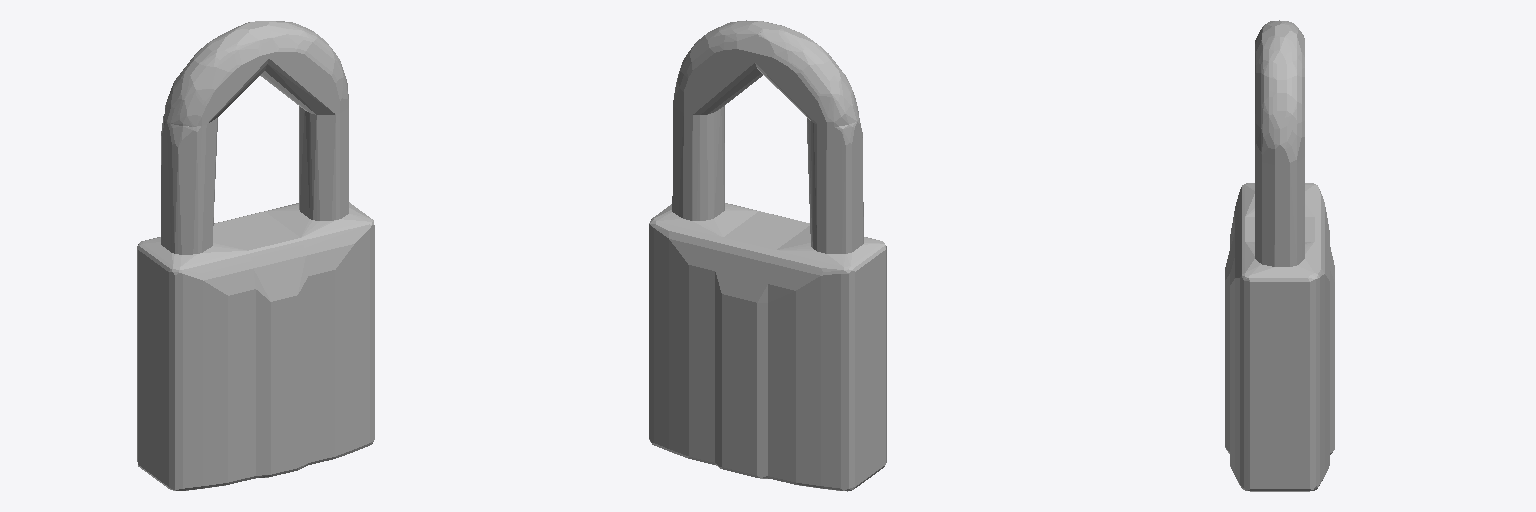
The robot description file, URDF, robot "root":
<robot name="root">
  <link name="body">
    <visual>
      <origin xyz="0 0 0" rpy="0 0 0"/>
      <geometry>
        <mesh filename="coacd_convex_piece_0.obj" scale="1.0000E+00 1.0000E+00 1.0000E+00"/>
      </geometry>
      <material name="">
        <color rgba="7.50E-01 7.50E-01 7.50E-01 1"/>
      </material>
    </visual>
    <collision>
      <origin xyz="0 0 0" rpy="0 0 0"/>
      <geometry>
        <mesh filename="coacd_convex_piece_0.obj" scale="1.0000E+00 1.0000E+00 1.0000E+00"/>
      </geometry>
    </collision>
    <visual>
      <origin xyz="0 0 0" rpy="0 0 0"/>
      <geometry>
        <mesh filename="coacd_convex_piece_1.obj" scale="1.0000E+00 1.0000E+00 1.0000E+00"/>
      </geometry>
      <material name="">
        <color rgba="7.50E-01 7.50E-01 7.50E-01 1"/>
      </material>
    </visual>
    <collision>
      <origin xyz="0 0 0" rpy="0 0 0"/>
      <geometry>
        <mesh filename="coacd_convex_piece_1.obj" scale="1.0000E+00 1.0000E+00 1.0000E+00"/>
      </geometry>
    </collision>
    <visual>
      <origin xyz="0 0 0" rpy="0 0 0"/>
      <geometry>
        <mesh filename="coacd_convex_piece_2.obj" scale="1.0000E+00 1.0000E+00 1.0000E+00"/>
      </geometry>
      <material name="">
        <color rgba="7.50E-01 7.50E-01 7.50E-01 1"/>
      </material>
    </visual>
    <collision>
      <origin xyz="0 0 0" rpy="0 0 0"/>
      <geometry>
        <mesh filename="coacd_convex_piece_2.obj" scale="1.0000E+00 1.0000E+00 1.0000E+00"/>
      </geometry>
    </collision>
    <visual>
      <origin xyz="0 0 0" rpy="0 0 0"/>
      <geometry>
        <mesh filename="coacd_convex_piece_3.obj" scale="1.0000E+00 1.0000E+00 1.0000E+00"/>
      </geometry>
      <material name="">
        <color rgba="7.50E-01 7.50E-01 7.50E-01 1"/>
      </material>
    </visual>
    <collision>
      <origin xyz="0 0 0" rpy="0 0 0"/>
      <geometry>
        <mesh filename="coacd_convex_piece_3.obj" scale="1.0000E+00 1.0000E+00 1.0000E+00"/>
      </geometry>
    </collision>
    <visual>
      <origin xyz="0 0 0" rpy="0 0 0"/>
      <geometry>
        <mesh filename="coacd_convex_piece_4.obj" scale="1.0000E+00 1.0000E+00 1.0000E+00"/>
      </geometry>
      <material name="">
        <color rgba="7.50E-01 7.50E-01 7.50E-01 1"/>
      </material>
    </visual>
    <collision>
      <origin xyz="0 0 0" rpy="0 0 0"/>
      <geometry>
        <mesh filename="coacd_convex_piece_4.obj" scale="1.0000E+00 1.0000E+00 1.0000E+00"/>
      </geometry>
    </collision>
    <visual>
      <origin xyz="0 0 0" rpy="0 0 0"/>
      <geometry>
        <mesh filename="coacd_convex_piece_5.obj" scale="1.0000E+00 1.0000E+00 1.0000E+00"/>
      </geometry>
      <material name="">
        <color rgba="7.50E-01 7.50E-01 7.50E-01 1"/>
      </material>
    </visual>
    <collision>
      <origin xyz="0 0 0" rpy="0 0 0"/>
      <geometry>
        <mesh filename="coacd_convex_piece_5.obj" scale="1.0000E+00 1.0000E+00 1.0000E+00"/>
      </geometry>
    </collision>
    <visual>
      <origin xyz="0 0 0" rpy="0 0 0"/>
      <geometry>
        <mesh filename="coacd_convex_piece_6.obj" scale="1.0000E+00 1.0000E+00 1.0000E+00"/>
      </geometry>
      <material name="">
        <color rgba="7.50E-01 7.50E-01 7.50E-01 1"/>
      </material>
    </visual>
    <collision>
      <origin xyz="0 0 0" rpy="0 0 0"/>
      <geometry>
        <mesh filename="coacd_convex_piece_6.obj" scale="1.0000E+00 1.0000E+00 1.0000E+00"/>
      </geometry>
    </collision>
    <visual>
      <origin xyz="0 0 0" rpy="0 0 0"/>
      <geometry>
        <mesh filename="coacd_convex_piece_7.obj" scale="1.0000E+00 1.0000E+00 1.0000E+00"/>
      </geometry>
      <material name="">
        <color rgba="7.50E-01 7.50E-01 7.50E-01 1"/>
      </material>
    </visual>
    <collision>
      <origin xyz="0 0 0" rpy="0 0 0"/>
      <geometry>
        <mesh filename="coacd_convex_piece_7.obj" scale="1.0000E+00 1.0000E+00 1.0000E+00"/>
      </geometry>
    </collision>
    <visual>
      <origin xyz="0 0 0" rpy="0 0 0"/>
      <geometry>
        <mesh filename="coacd_convex_piece_8.obj" scale="1.0000E+00 1.0000E+00 1.0000E+00"/>
      </geometry>
      <material name="">
        <color rgba="7.50E-01 7.50E-01 7.50E-01 1"/>
      </material>
    </visual>
    <collision>
      <origin xyz="0 0 0" rpy="0 0 0"/>
      <geometry>
        <mesh filename="coacd_convex_piece_8.obj" scale="1.0000E+00 1.0000E+00 1.0000E+00"/>
      </geometry>
    </collision>
  </link>
</robot>

--- Facts derived from the render (not from the file) ---
Views: 3 orthographic renders of the robot side by side, from view 1: azimuth 30°, elevation 25°; view 2: azimuth 150°, elevation 25°; view 3: azimuth 270°, elevation 25°.
Model root with 1 links and 0 joints (none), rooted at body, posed every joint at zero.
Links seen in each view (by area): view 1: body; view 2: body; view 3: body.
Boxes of the visible links, box(x1,y1,x2,y2) form: body: box(137, 21, 374, 490); body: box(649, 20, 886, 491); body: box(1225, 20, 1334, 491).
Size in the robot's own frame: 0.877 by 0.4194 by 1.75 metres.
Meshes: 9 distinct files referenced, 9 mesh visuals loaded (9 OBJ).
